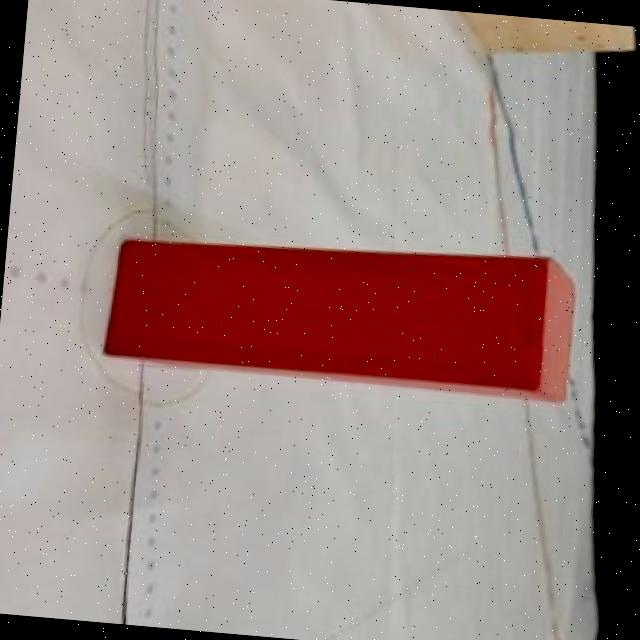redbox: (96, 214, 581, 404)
